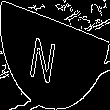N_N: (39, 26, 71, 84)
